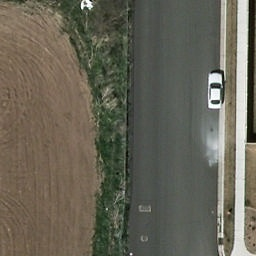car: (208, 72, 222, 111)
